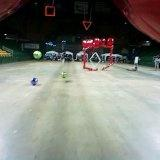Green_Balloon: (33, 50, 42, 59), (60, 72, 68, 78)
Orange_Square_GShape: (45, 6, 55, 16)
Orange_Triangle_Gshape: (83, 20, 92, 30)
Purple_Balloon: (31, 77, 39, 85)
